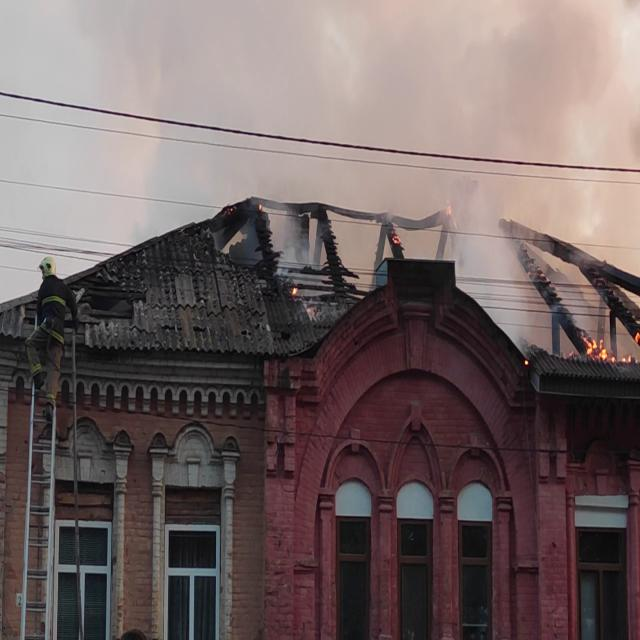fire: (575, 334, 619, 360)
smoke: (470, 206, 504, 308)
